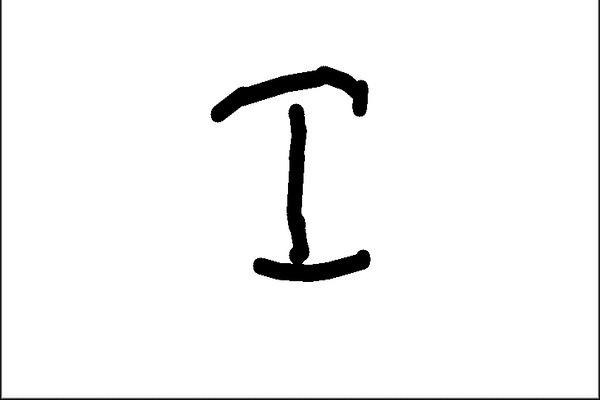i: (199, 57, 391, 287)
